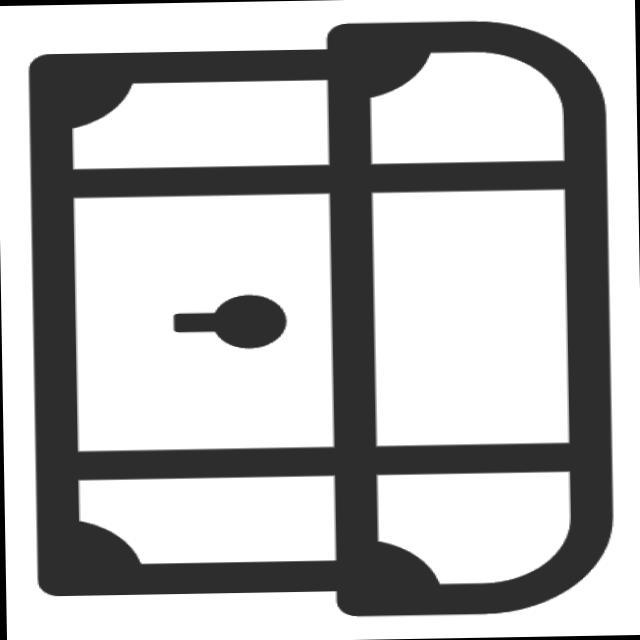treasure_box: (17, 6, 620, 631)
